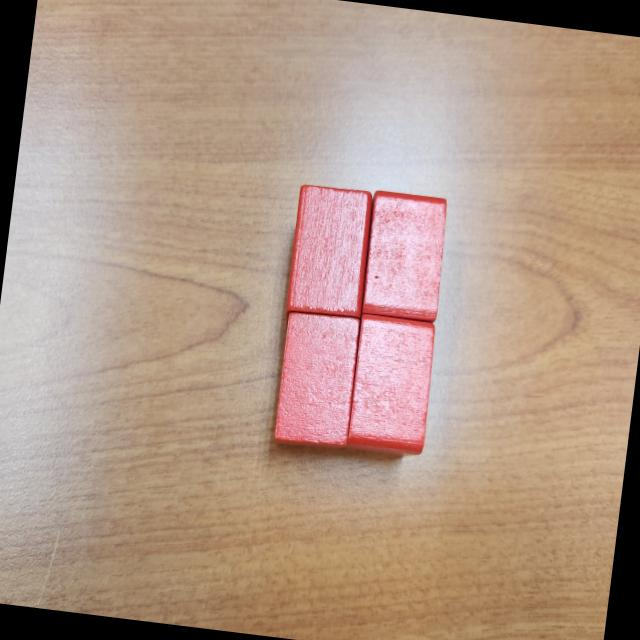red: (345, 314, 439, 462), (270, 308, 364, 452), (283, 182, 378, 322), (357, 190, 452, 324)
